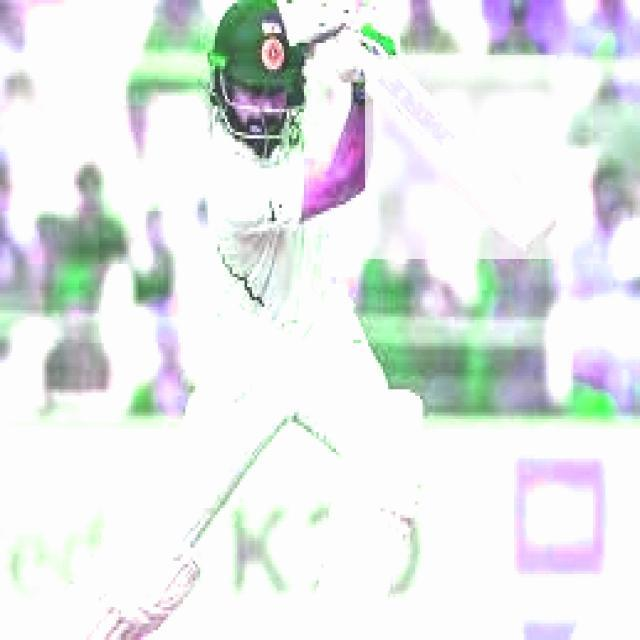bat: (362, 58, 582, 259)
toe: (513, 220, 564, 254)
